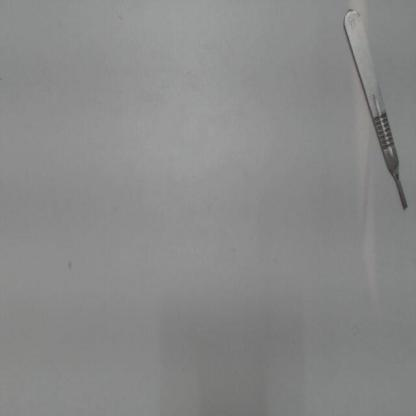No.3 BP Handle: (333, 4, 411, 220)
